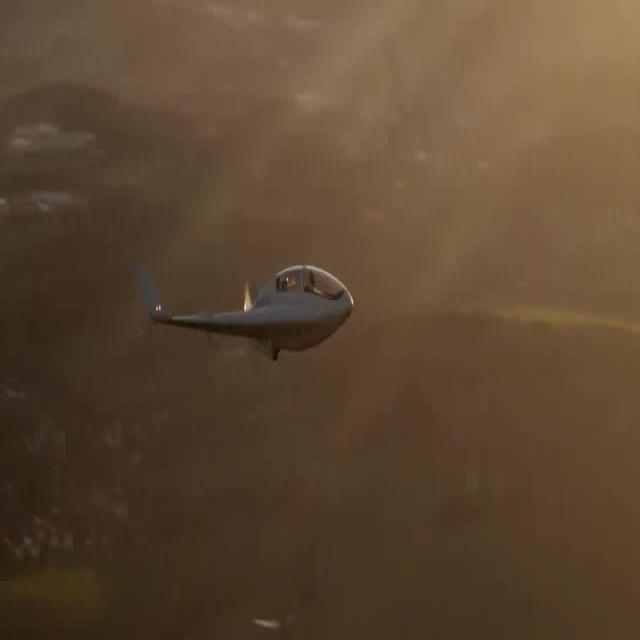iha: (129, 241, 357, 375)
